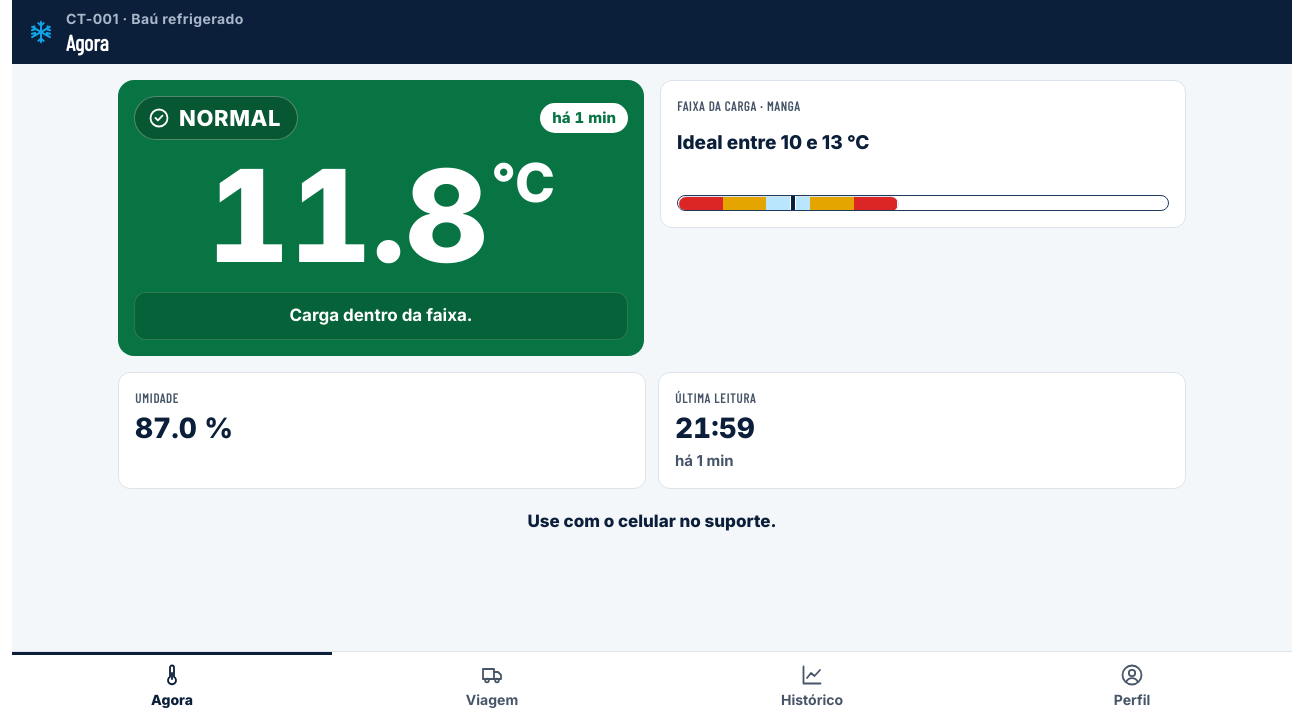
Motorista - abas (#80) › abre em Agora; trocar de aba muda o título e a aba ativa, e a atualização não volta para Agora
expect the heading with id "tituloAba" reads "Agora": met, box [66, 29, 109, 55]
Click the button "Viagem" at (492, 686), box [332, 652, 652, 719]
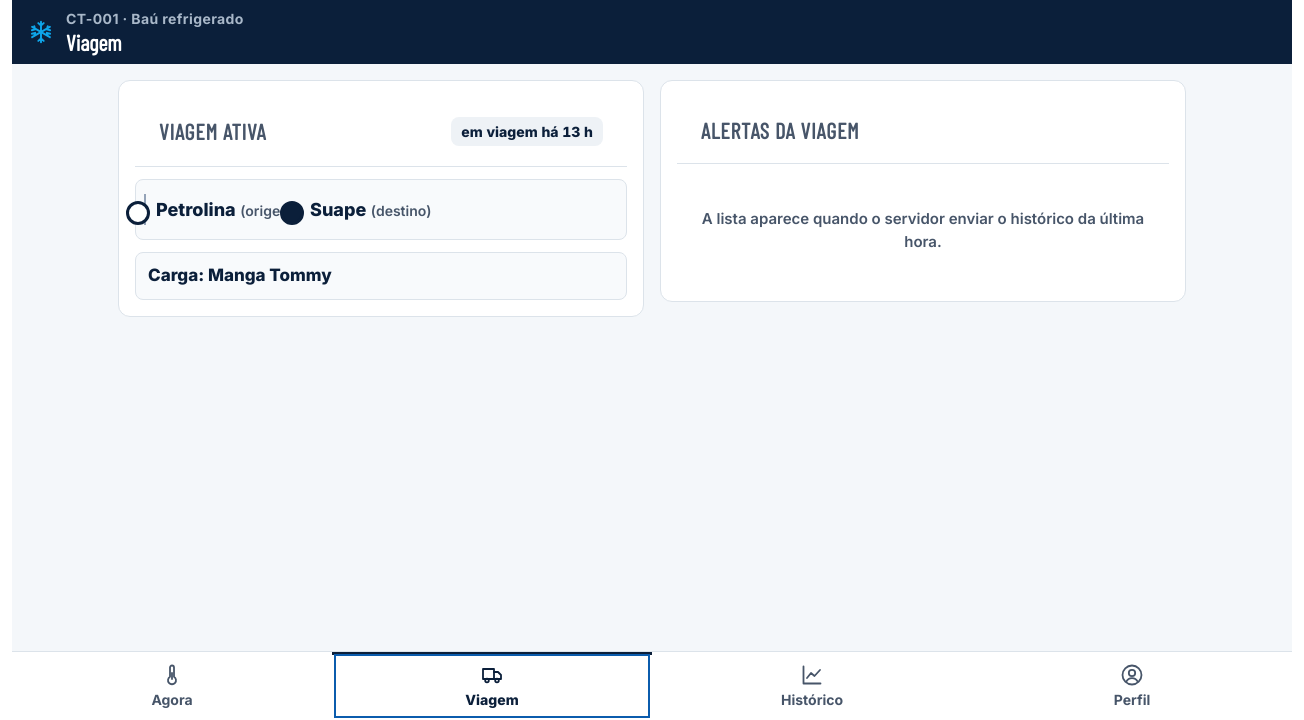
expect the heading with id "tituloAba" reads "Viagem": met, box [66, 29, 122, 55]
expect the element that starts with "Viagem ativa" is shown: met, box [118, 80, 1186, 316]
Click the button "Histórico" at (812, 686), box [652, 652, 972, 719]
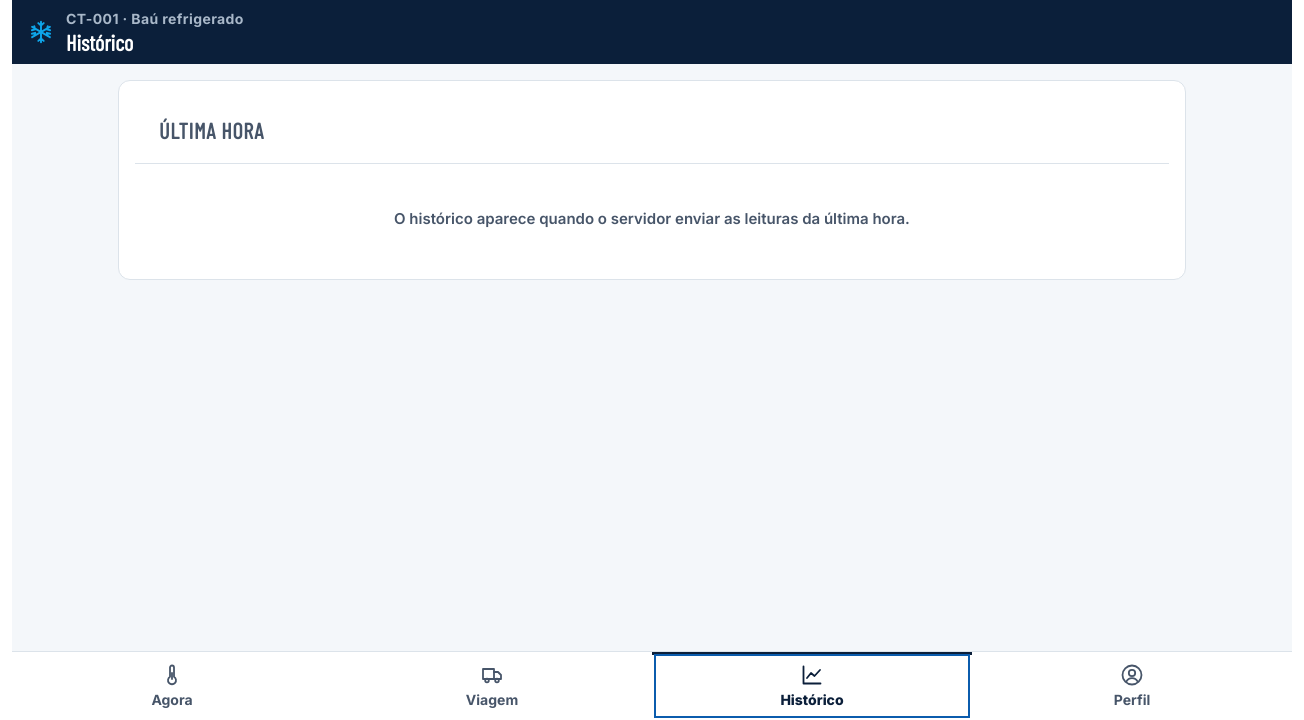
expect the element that starts with "Última hora" is shown: met, box [118, 80, 1186, 280]
